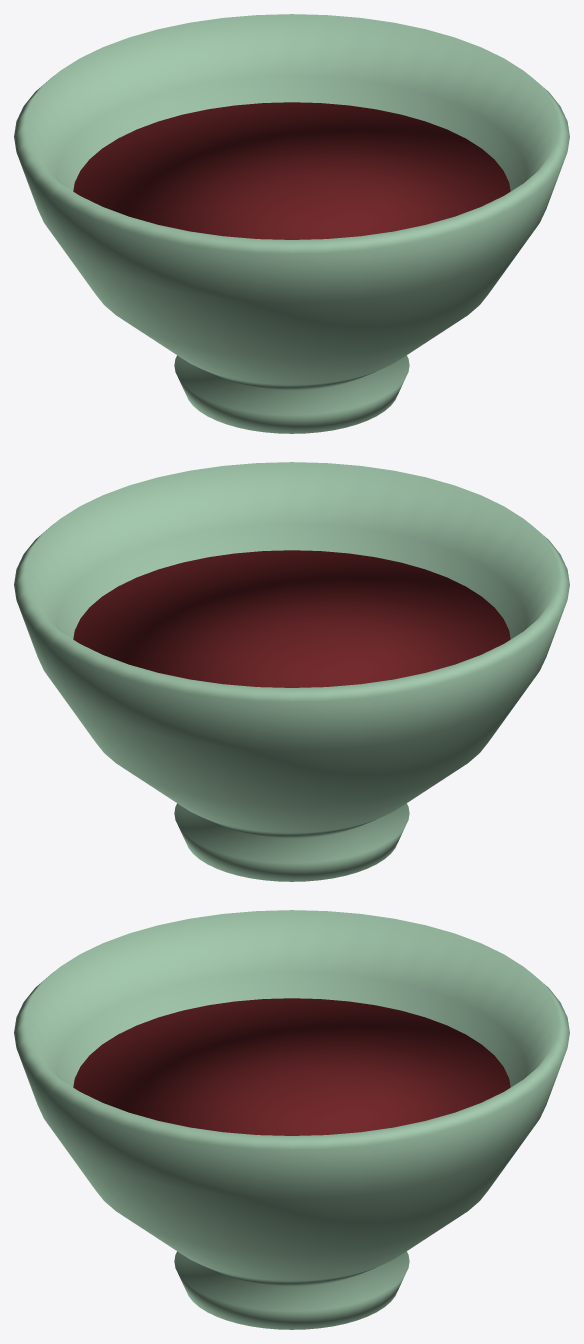
The model's file is poem_cup.glb.
3 renders of one model, top to bottom at view 1: azimuth 30°, elevation 25°; view 2: azimuth 150°, elevation 25°; view 3: azimuth 270°, elevation 25°, orthographic.
Visible parts, largest first — view 1: cup; view 2: cup; view 3: cup.
Boxes of the visible parts, box(x1,y1,x2,y2) form: cup: box(14, 14, 569, 433); cup: box(14, 462, 569, 881); cup: box(14, 910, 569, 1329).
Bounding box in the file's own units: 0.26 × 0.135 × 0.26.
